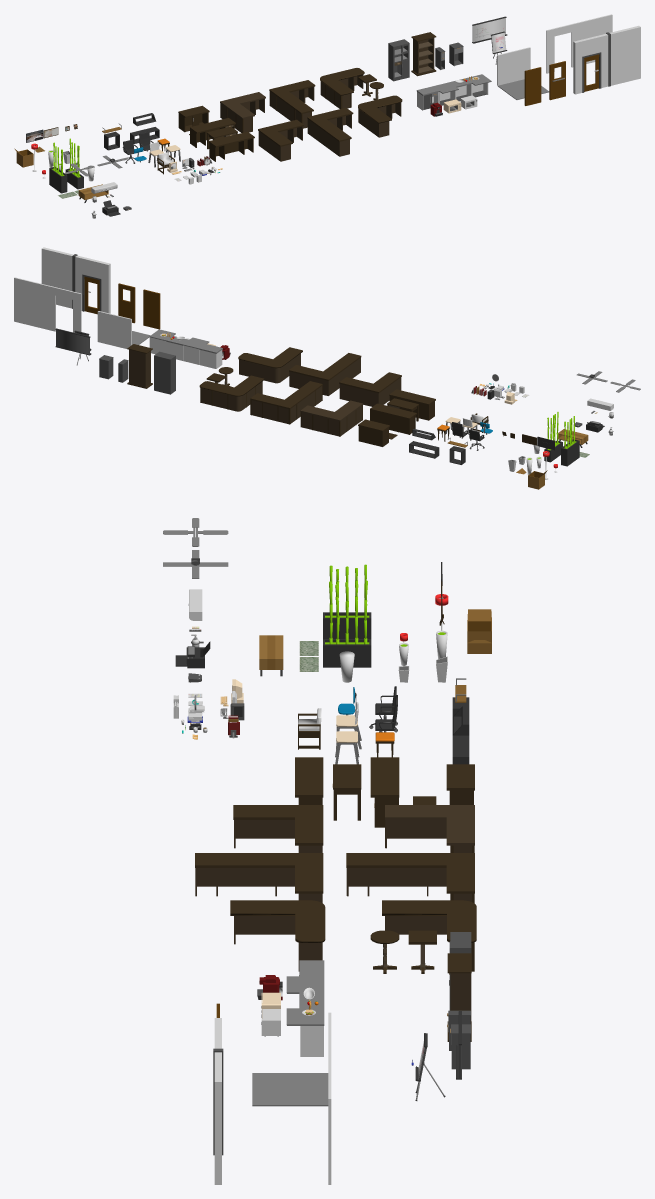
Rendered from office.glb.
The picture shows the model from 3 angles, top to bottom: view 1: azimuth 30°, elevation 25°; view 2: azimuth 150°, elevation 25°; view 3: azimuth 270°, elevation 25°; orthographic projection. The views are drawn at different scales.
Visible parts, largest first — view 1: Wall_Standard, Office_Desk_4_Two_Alt, Office_Desk_4_Two, Wall_Standard_Door, Office_Desk_4_Rounded_Alt, Office_Desk_4_Alt, Office_Desk_4_Rounded, Office_Desk_4, Wall_Small, Bookshelf, Office_Desk_3_Alt, Wall_Medium_Door (+14 smaller); view 2: Office_Desk_4_Two, Office_Desk_4_Two_Alt, Office_Desk_4, Wall_Medium, Office_Desk_4_Rounded, Office_Desk_4_Rounded_Alt, Office_Desk_4_Alt, Wall_Standard, Wall_Standard_Door, Wall_Small, Office_Desk_3, Bookshelf (+13 smaller); view 3: Office_Desk_4_Two, Office_Desk_4_Two_Alt, Office_Desk_4_Rounded_Alt, Office_Desk_4_Alt, Office_Desk_4, Office_Desk_4_Rounded, Floor, Office_Desk_3, Bookshelf, Office_CounterB2, Office_Desk_3_Alt, Nature_Deco_Small (+6 smaller).
Boxes of the visible parts, left/top/right/bottom form: Wall_Standard: left=610, top=25, right=640, bottom=85; Office_Desk_4_Two_Alt: left=307, top=107, right=353, bottom=156; Office_Desk_4_Two: left=269, top=80, right=315, bottom=128; Wall_Standard_Door: left=573, top=34, right=608, bottom=94; Office_Desk_4_Rounded_Alt: left=358, top=95, right=402, bottom=137; Office_Desk_4_Alt: left=258, top=119, right=303, bottom=161; Office_Desk_4_Rounded: left=320, top=68, right=364, bottom=108; Office_Desk_4: left=220, top=92, right=265, bottom=132; Wall_Small: left=497, top=47, right=530, bottom=85; Bookshelf: left=411, top=32, right=436, bottom=76; Office_Desk_3_Alt: left=209, top=131, right=254, bottom=161; Wall_Medium_Door: left=546, top=22, right=579, bottom=73; Office_Desk_4_Two: left=250, top=381, right=322, bottom=424; Office_Desk_4_Two_Alt: left=289, top=353, right=361, bottom=395; Office_Desk_4: left=300, top=400, right=363, bottom=436; Wall_Medium: left=14, top=277, right=47, bottom=329; Office_Desk_4_Rounded: left=199, top=375, right=264, bottom=411; Office_Desk_4_Rounded_Alt: left=238, top=347, right=302, bottom=383; Office_Desk_4_Alt: left=339, top=372, right=401, bottom=406; Wall_Standard: left=41, top=247, right=73, bottom=308; Wall_Standard_Door: left=75, top=255, right=110, bottom=313; Wall_Small: left=97, top=311, right=131, bottom=348; Office_Desk_3: left=370, top=403, right=416, bottom=434; Bookshelf: left=127, top=344, right=152, bottom=388; Office_Desk_4_Two: left=346, top=853, right=474, bottom=903; Office_Desk_4_Two_Alt: left=195, top=853, right=323, bottom=902; Office_Desk_4_Rounded_Alt: left=230, top=900, right=325, bottom=971; Office_Desk_4_Alt: left=233, top=805, right=323, bottom=852; Office_Desk_4: left=385, top=805, right=474, bottom=852; Office_Desk_4_Rounded: left=382, top=900, right=476, bottom=971; Floor: left=252, top=1073, right=328, bottom=1106; Office_Desk_3: left=370, top=757, right=399, bottom=827; Bookshelf: left=447, top=953, right=471, bottom=1041; Office_CounterB2: left=286, top=1008, right=324, bottom=1056; Office_Desk_3_Alt: left=295, top=757, right=323, bottom=804; Nature_Deco_Small: left=323, top=639, right=371, bottom=667.
Bounding box in the file's own units: 35.38 × 3.13 × 8.69.
7 materials, 7 textured.
